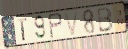8: (82, 8, 96, 35)
9: (33, 15, 47, 41)
B: (96, 6, 114, 33)
P: (47, 12, 64, 40)
T: (16, 18, 29, 42)
V: (63, 10, 80, 38)
